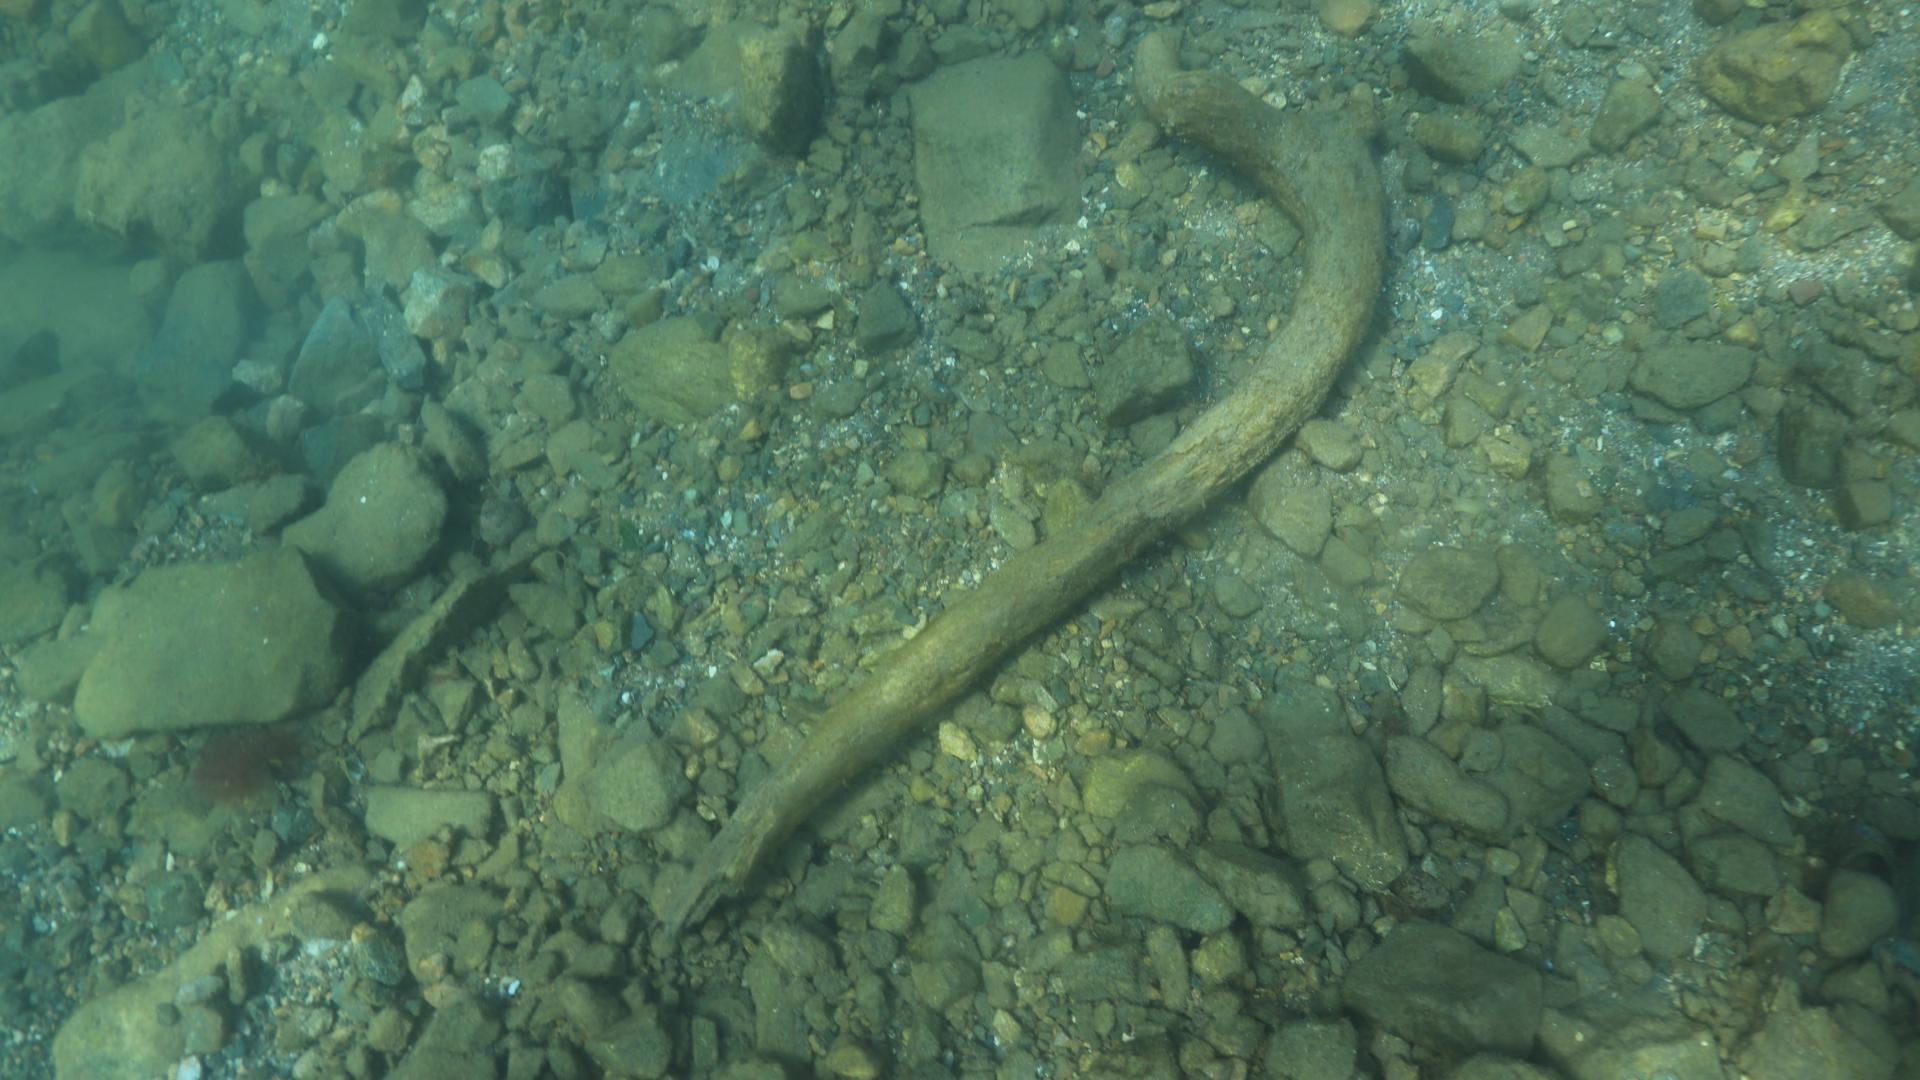wood: (661, 22, 1391, 938)
